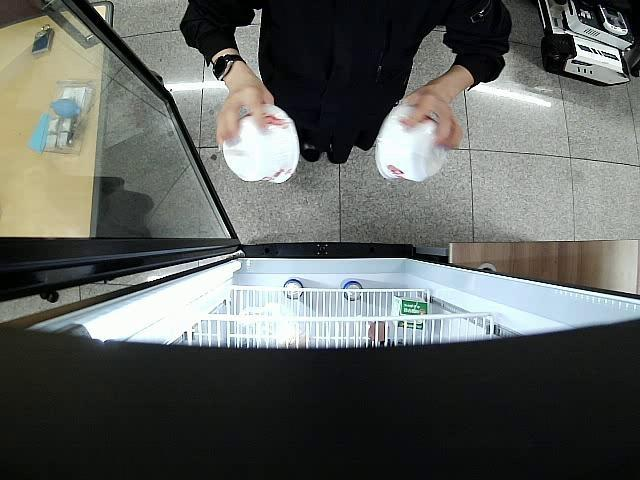09_yukGaeJang: (221, 103, 300, 182), (373, 103, 450, 180)
